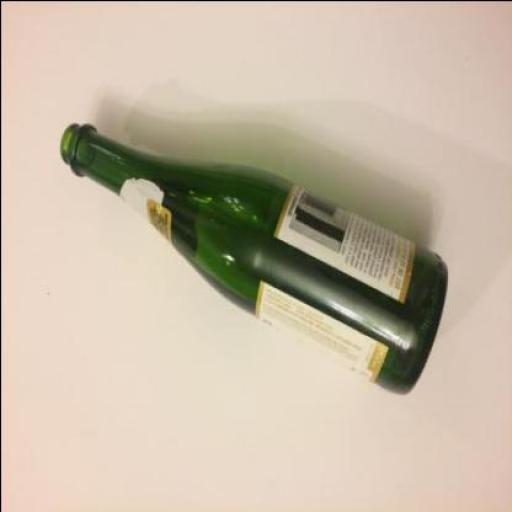glass: (57, 122, 446, 394)
